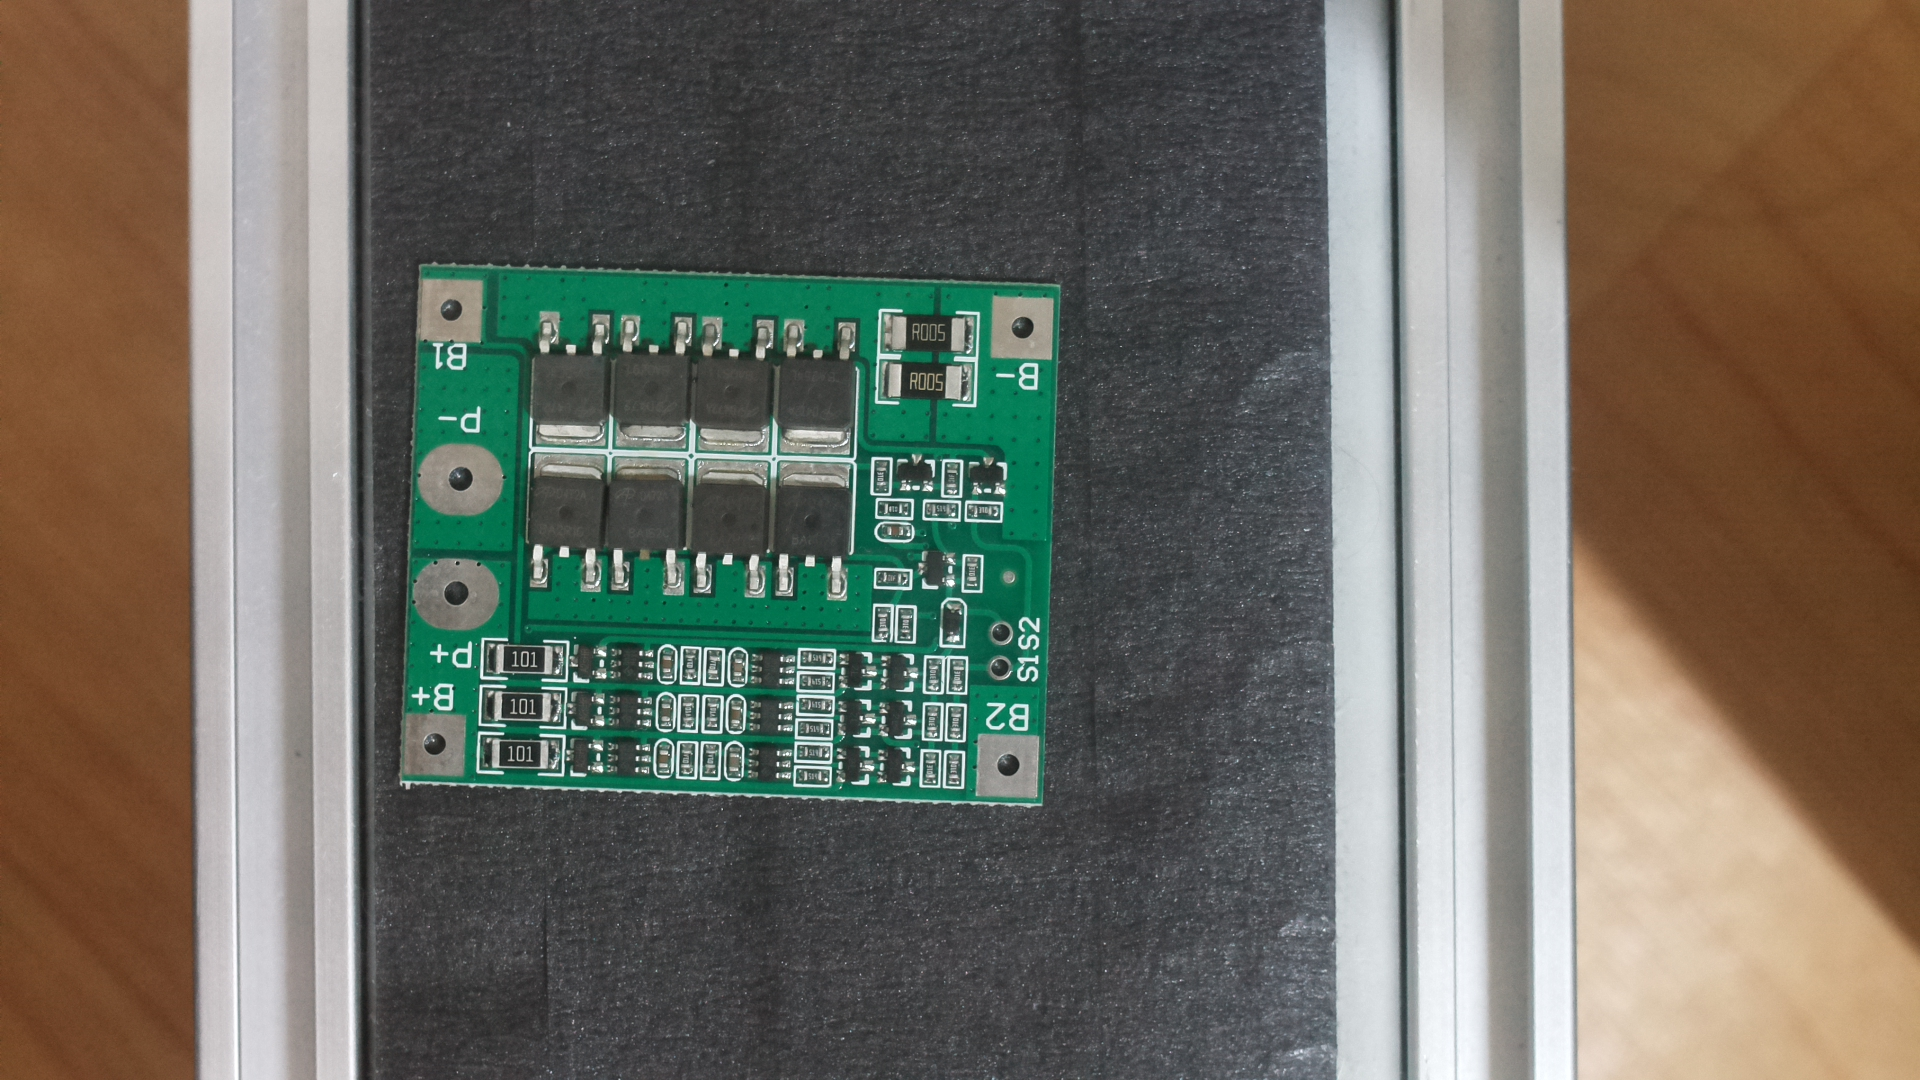C_Normal: (389, 264, 1083, 833)
